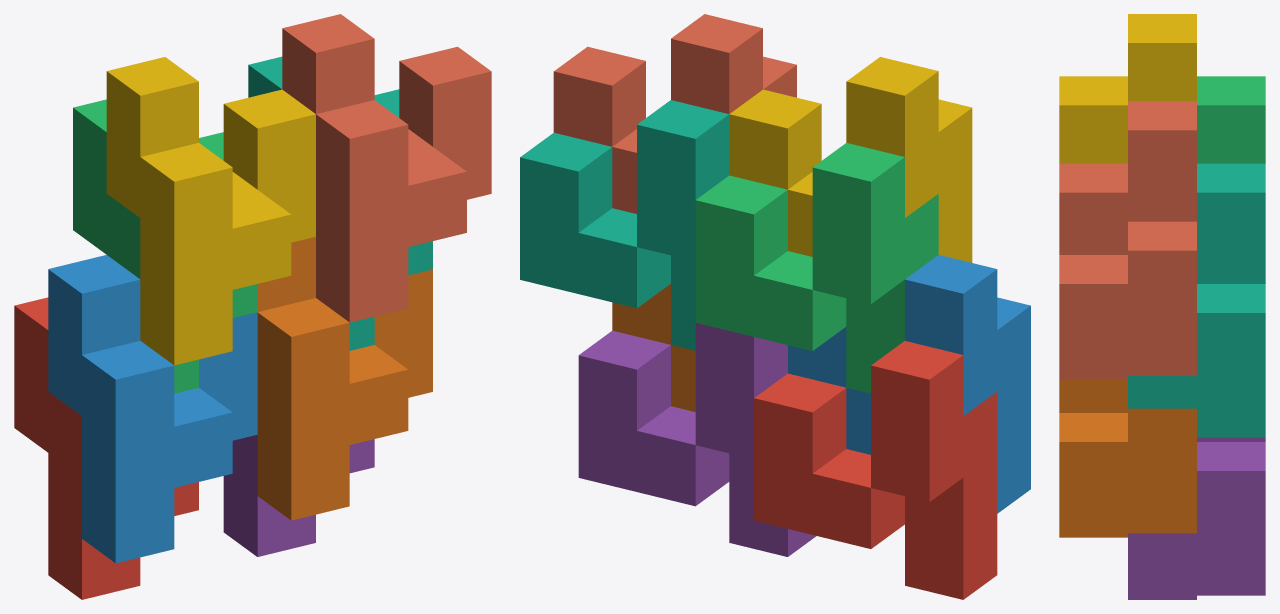
The model's file is tiling.obj.
3 views of the same model, side by side, from view 1: azimuth 30°, elevation 25°; view 2: azimuth 150°, elevation 25°; view 3: azimuth 270°, elevation 25° (orthographic).
Visible parts, largest first — view 1: copy_1_domain_4, copy_1_domain_8, copy_1_domain_2, copy_1_domain_6, copy_1_domain_1, copy_1_domain_3, copy_1_domain_5, copy_1_domain_7; view 2: copy_1_domain_1, copy_1_domain_3, copy_1_domain_7, copy_1_domain_5, copy_1_domain_4, copy_1_domain_2, copy_1_domain_8, copy_1_domain_6; view 3: copy_1_domain_8, copy_1_domain_7, copy_1_domain_6, copy_1_domain_5, copy_1_domain_4, copy_1_domain_3.
Part boxes in pixels (x1,y1,x2,y2): copy_1_domain_4: [106, 57, 315, 365]; copy_1_domain_8: [282, 14, 491, 322]; copy_1_domain_2: [48, 255, 257, 563]; copy_1_domain_6: [257, 237, 432, 520]; copy_1_domain_1: [14, 297, 198, 599]; copy_1_domain_3: [73, 99, 257, 393]; copy_1_domain_5: [223, 434, 374, 556]; copy_1_domain_7: [248, 56, 432, 350]; copy_1_domain_1: [754, 341, 997, 599]; copy_1_domain_3: [695, 143, 938, 393]; copy_1_domain_7: [520, 100, 729, 350]; copy_1_domain_5: [578, 323, 816, 556]; copy_1_domain_4: [729, 57, 972, 262]; copy_1_domain_2: [788, 255, 1030, 513]; copy_1_domain_8: [553, 14, 796, 213]; copy_1_domain_6: [612, 284, 695, 411]; copy_1_domain_8: [1059, 101, 1196, 379]; copy_1_domain_7: [1128, 163, 1265, 437]; copy_1_domain_6: [1059, 379, 1196, 537]; copy_1_domain_5: [1128, 437, 1265, 599]; copy_1_domain_4: [1059, 14, 1196, 163]; copy_1_domain_3: [1197, 76, 1265, 163].
Size of the model in its own units: 7 by 8 by 3.
